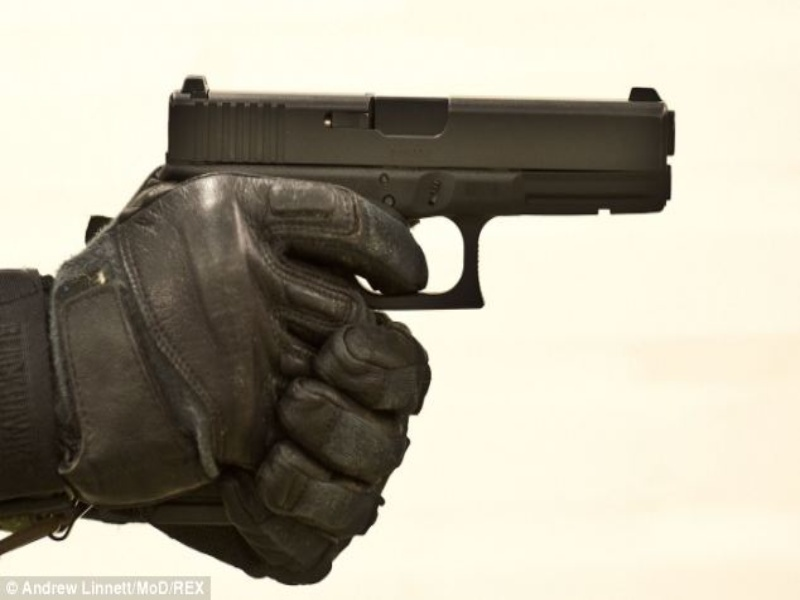gun: (118, 62, 690, 556)
